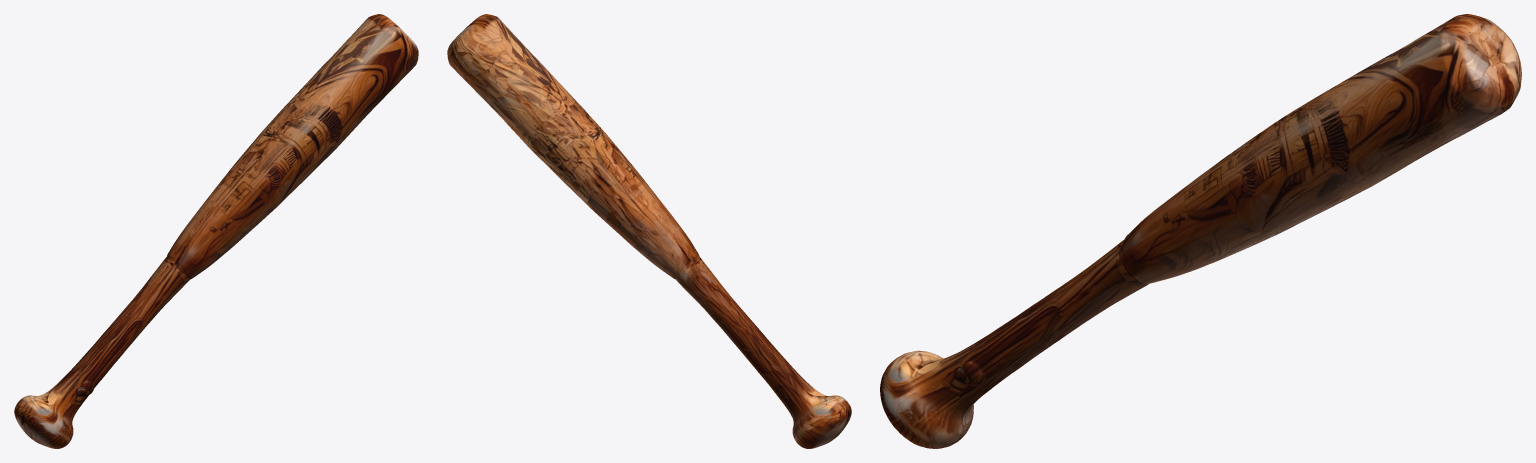
Rendered from weapon-bat.glb.
3 views of the same model, side by side, from view 1: azimuth 30°, elevation 25°; view 2: azimuth 150°, elevation 25°; view 3: azimuth 330°, elevation 25° (orthographic). The views are drawn at different scales.
Visible parts, largest first — view 1: tripo_node_6c1fe0ac-1f21-4085-9cb7-860774e94c72; view 2: tripo_node_6c1fe0ac-1f21-4085-9cb7-860774e94c72; view 3: tripo_node_6c1fe0ac-1f21-4085-9cb7-860774e94c72.
Part boxes in pixels (bbox=[...]): tripo_node_6c1fe0ac-1f21-4085-9cb7-860774e94c72: bbox=[14, 14, 418, 448]; tripo_node_6c1fe0ac-1f21-4085-9cb7-860774e94c72: bbox=[447, 14, 851, 448]; tripo_node_6c1fe0ac-1f21-4085-9cb7-860774e94c72: bbox=[880, 14, 1521, 448].
Size of the model in its own units: 0.9999 by 0.8445 by 0.1485.
1 material, 1 textured.
